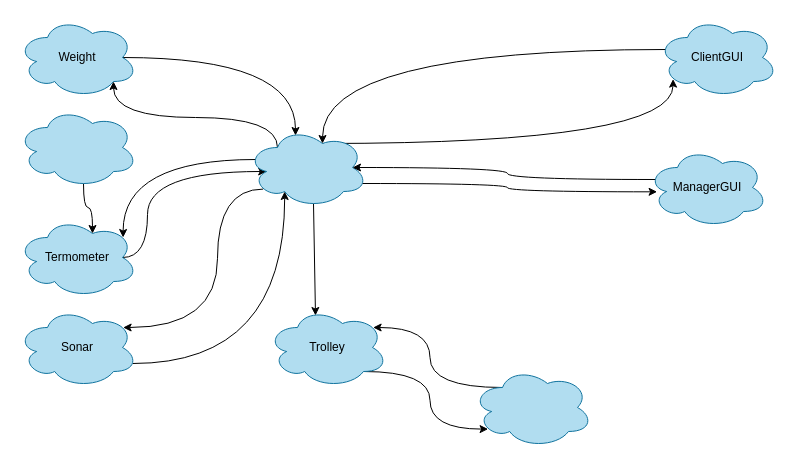
Some shapes in this 795 by 465 pixel diagram are drawn without their labels. Here are the shapes that lost their labels. From the top down, the centre of each, then its label:
At point 77,147: "Fan".
At point 307,167: "ParkingSystem".
At point 532,407: "Basicrobot".
